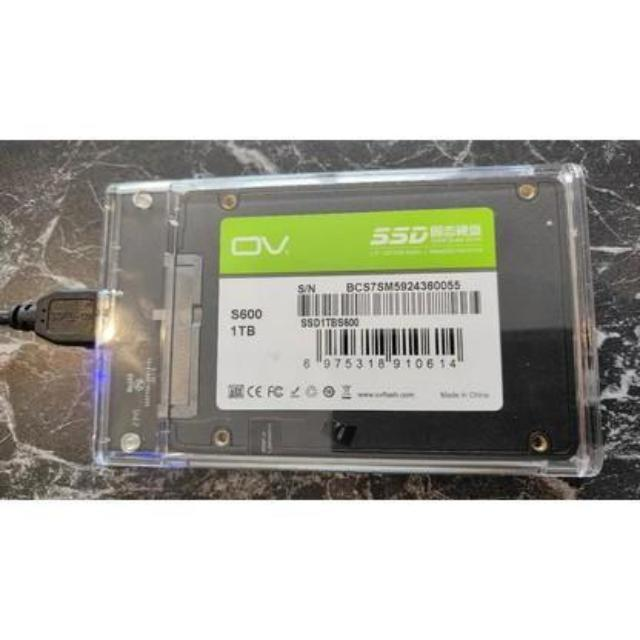DISK: (172, 191, 586, 469)
